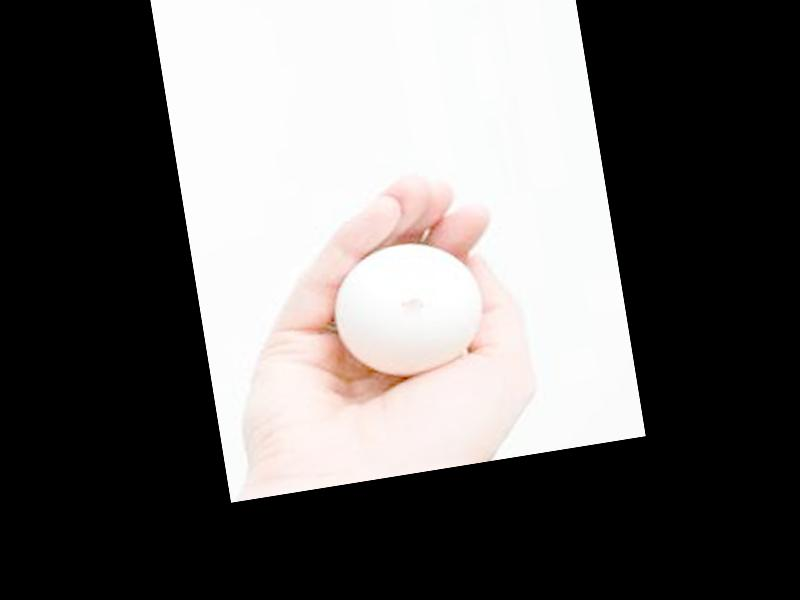Eggs: (328, 234, 486, 382)
